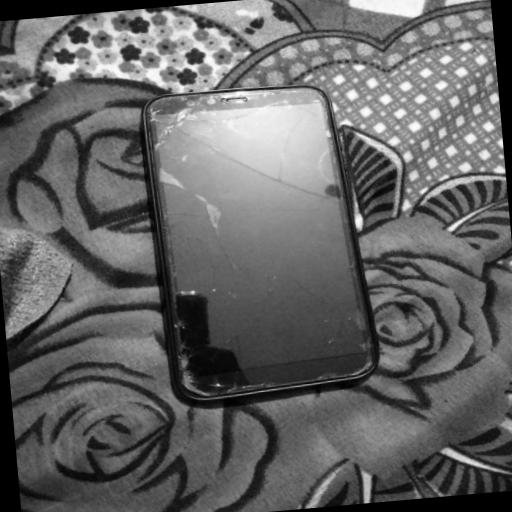phone: (146, 81, 389, 412)
